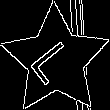L_NE: (27, 33, 84, 88)
